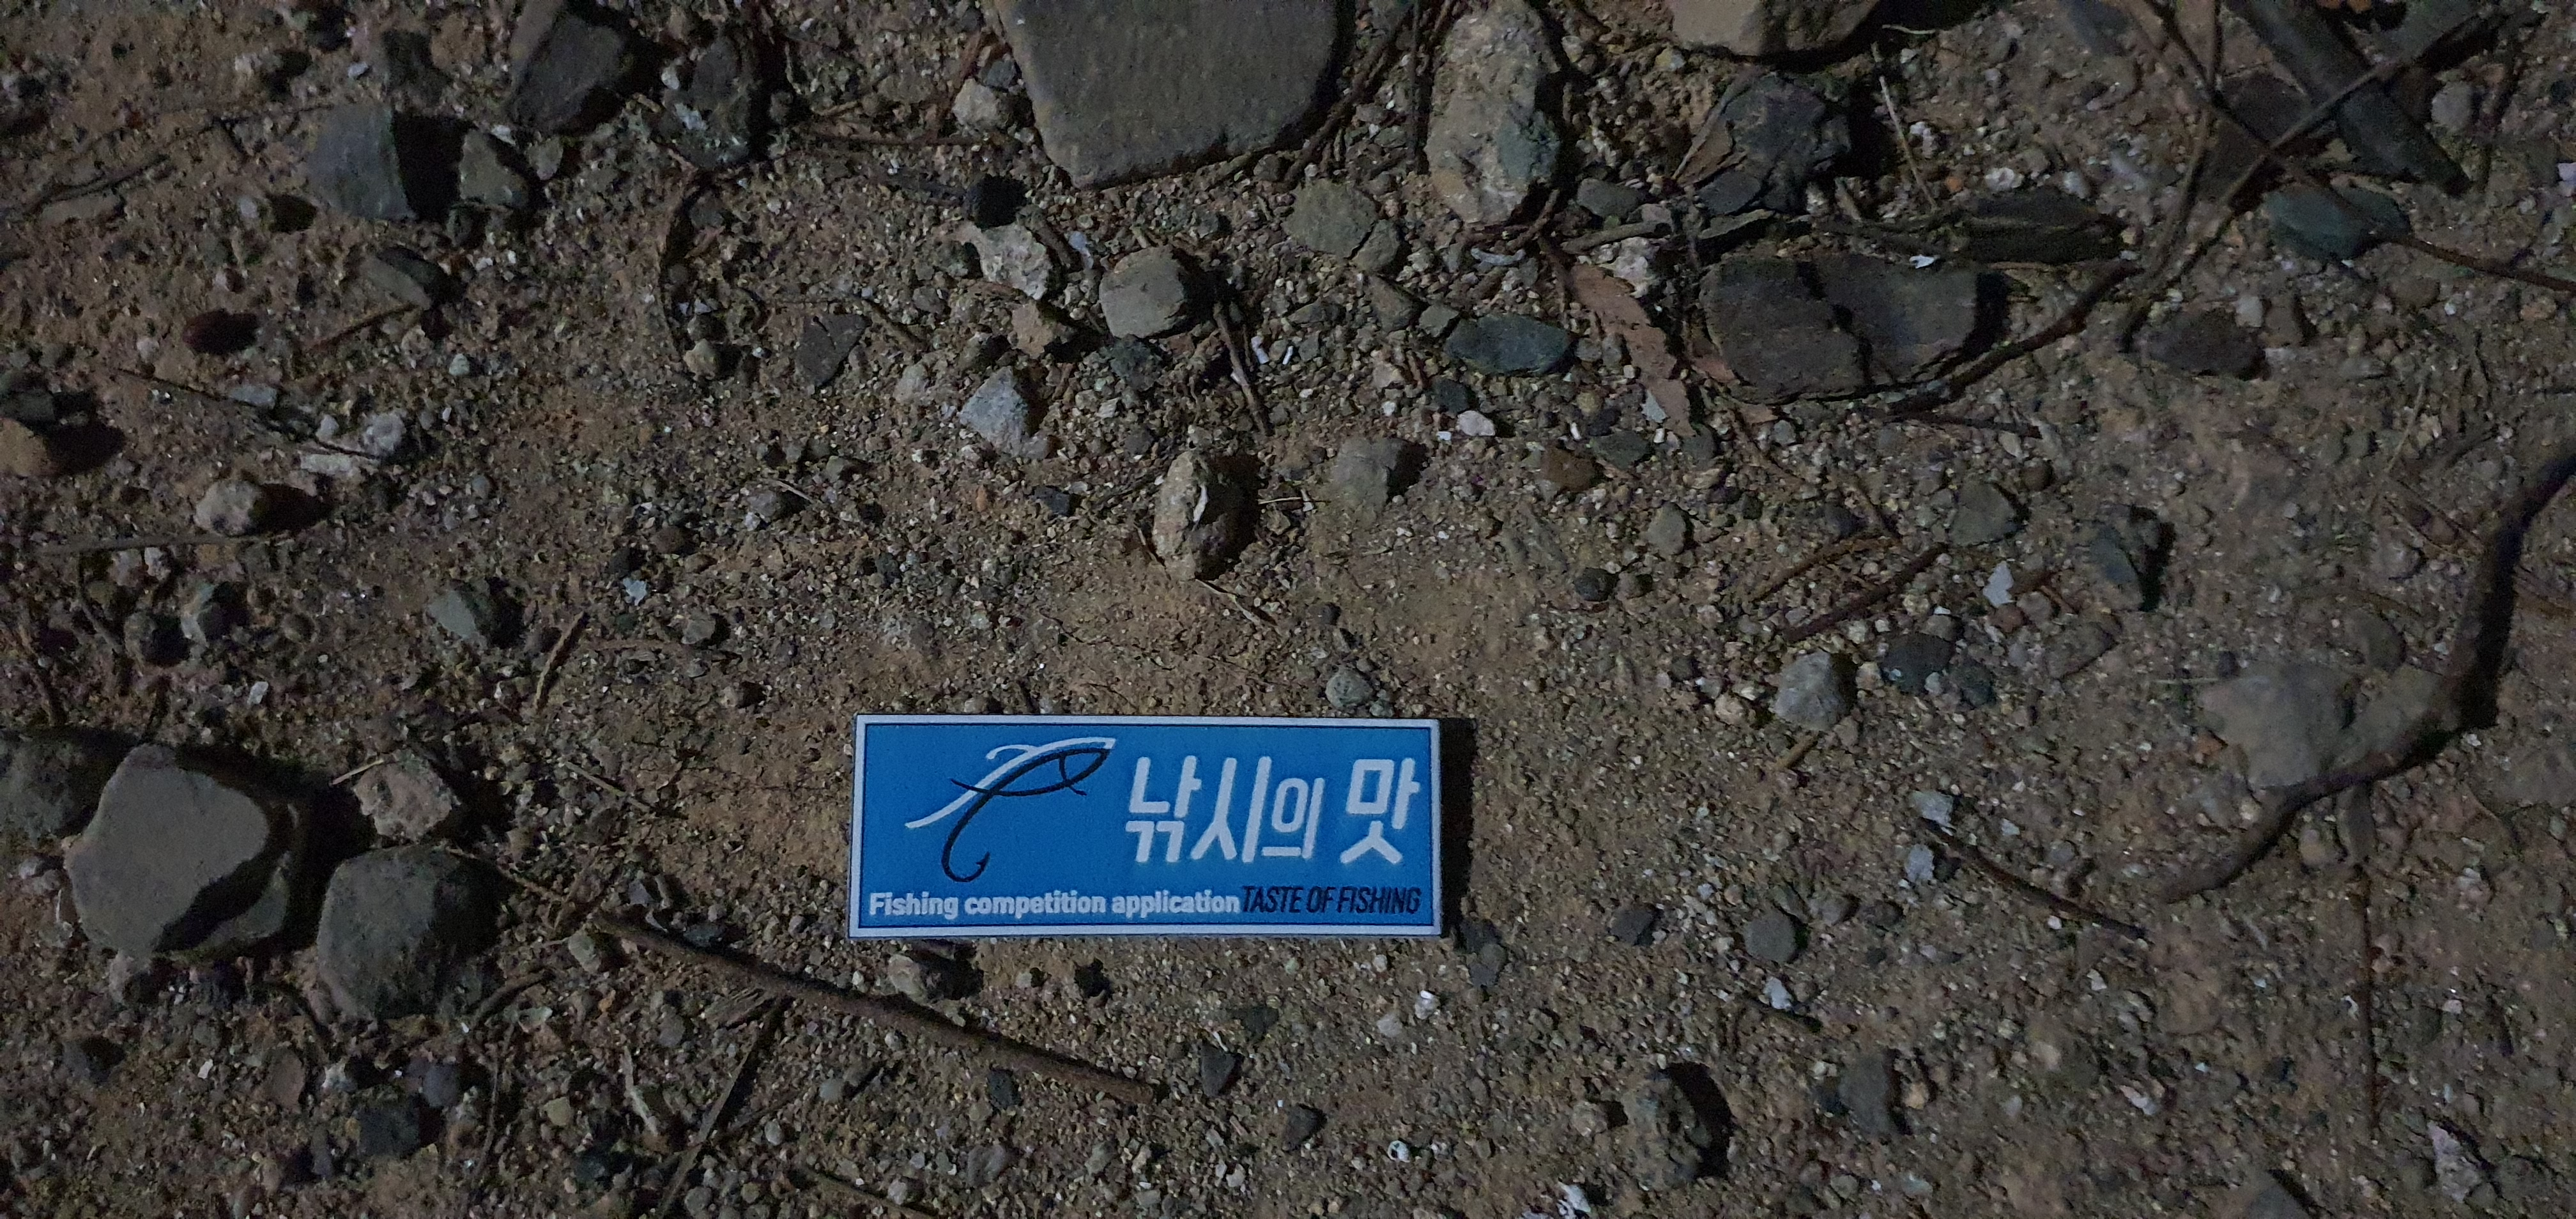tag: (854, 715, 1441, 938)
